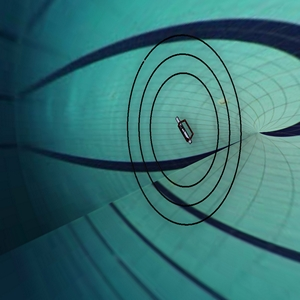circle: (117, 31, 250, 233)
submarine: (167, 109, 201, 149)
